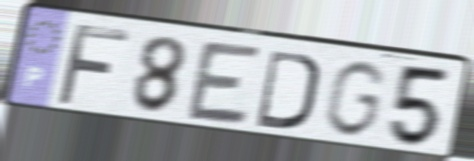5: (383, 61, 461, 150)
8: (130, 34, 189, 117)
D: (254, 46, 322, 133)
E: (183, 38, 265, 129)
F: (53, 20, 132, 109)
G: (320, 58, 390, 140)
